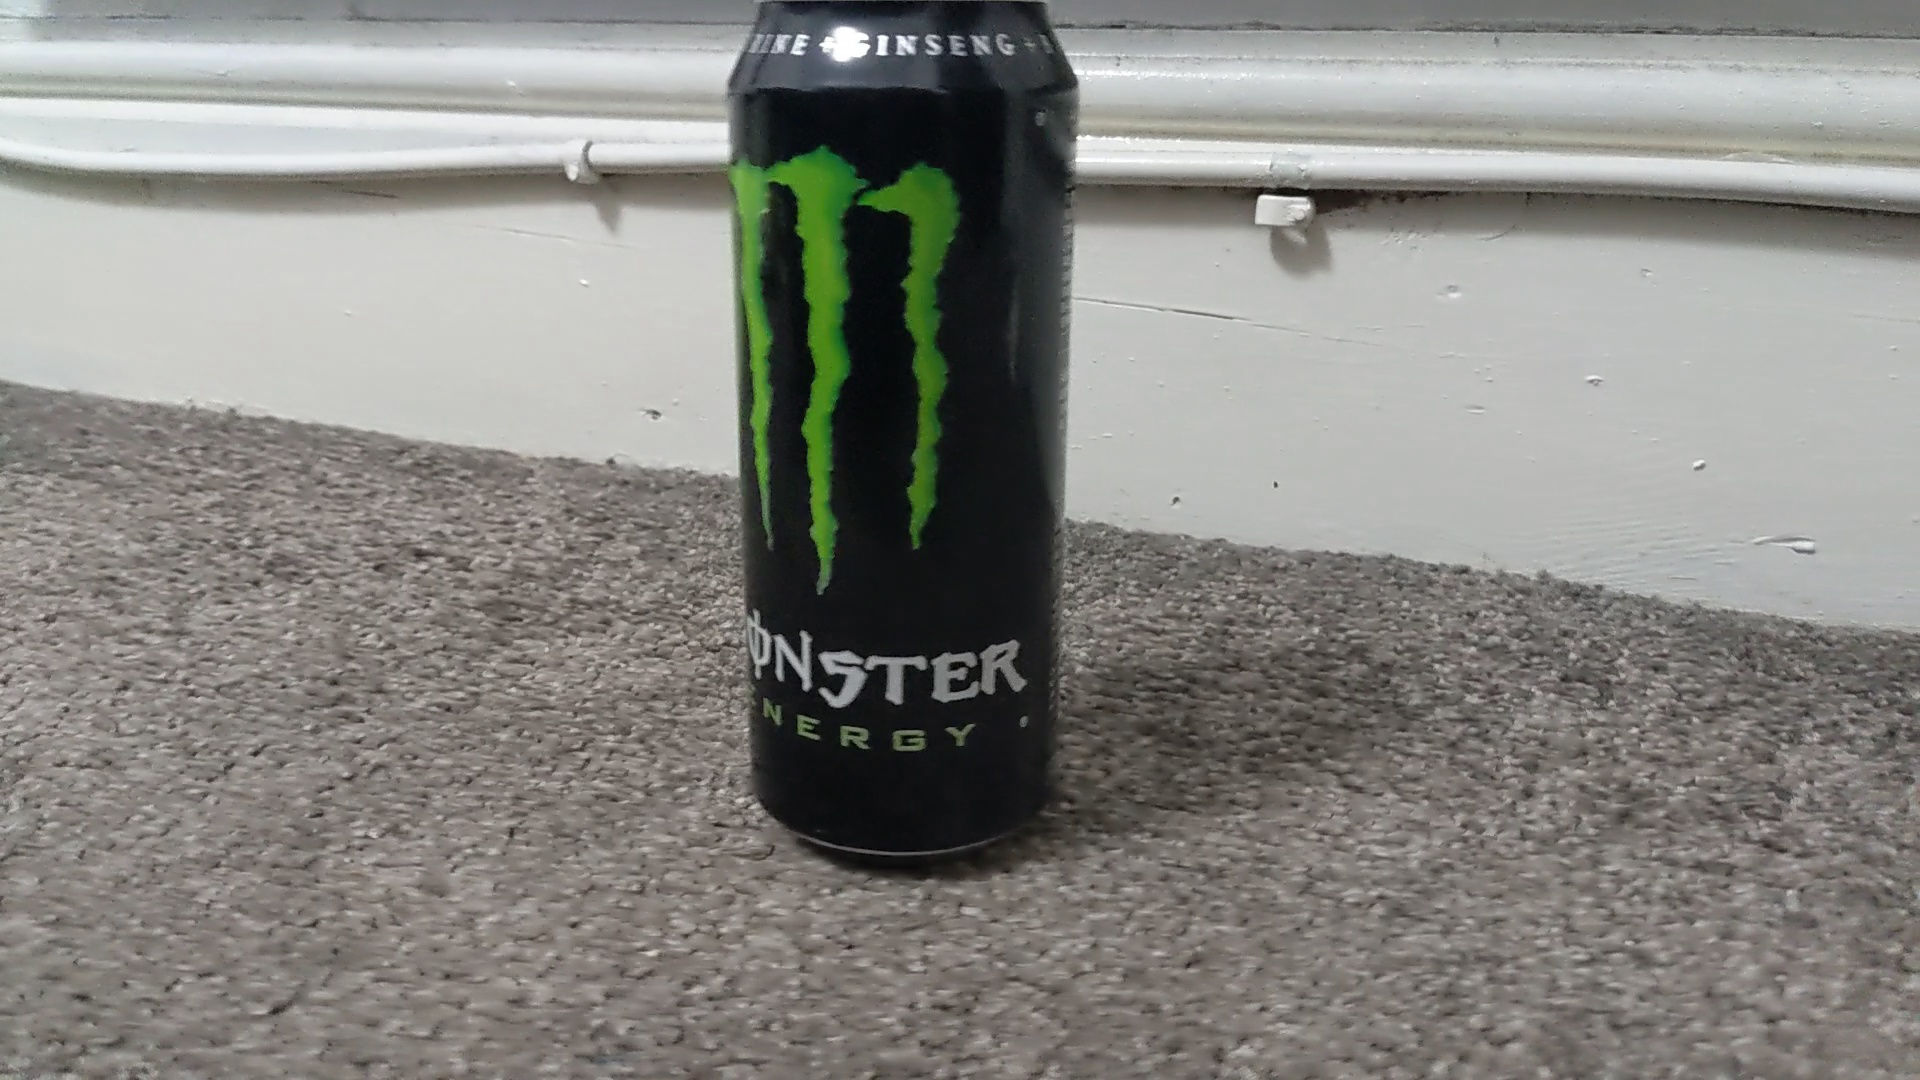monster-original: (727, 1, 1077, 864)
